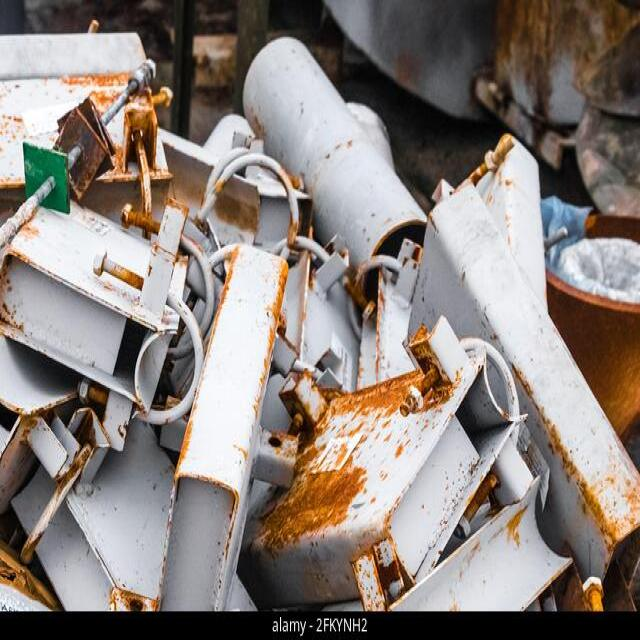metal: (6, 33, 627, 590)
